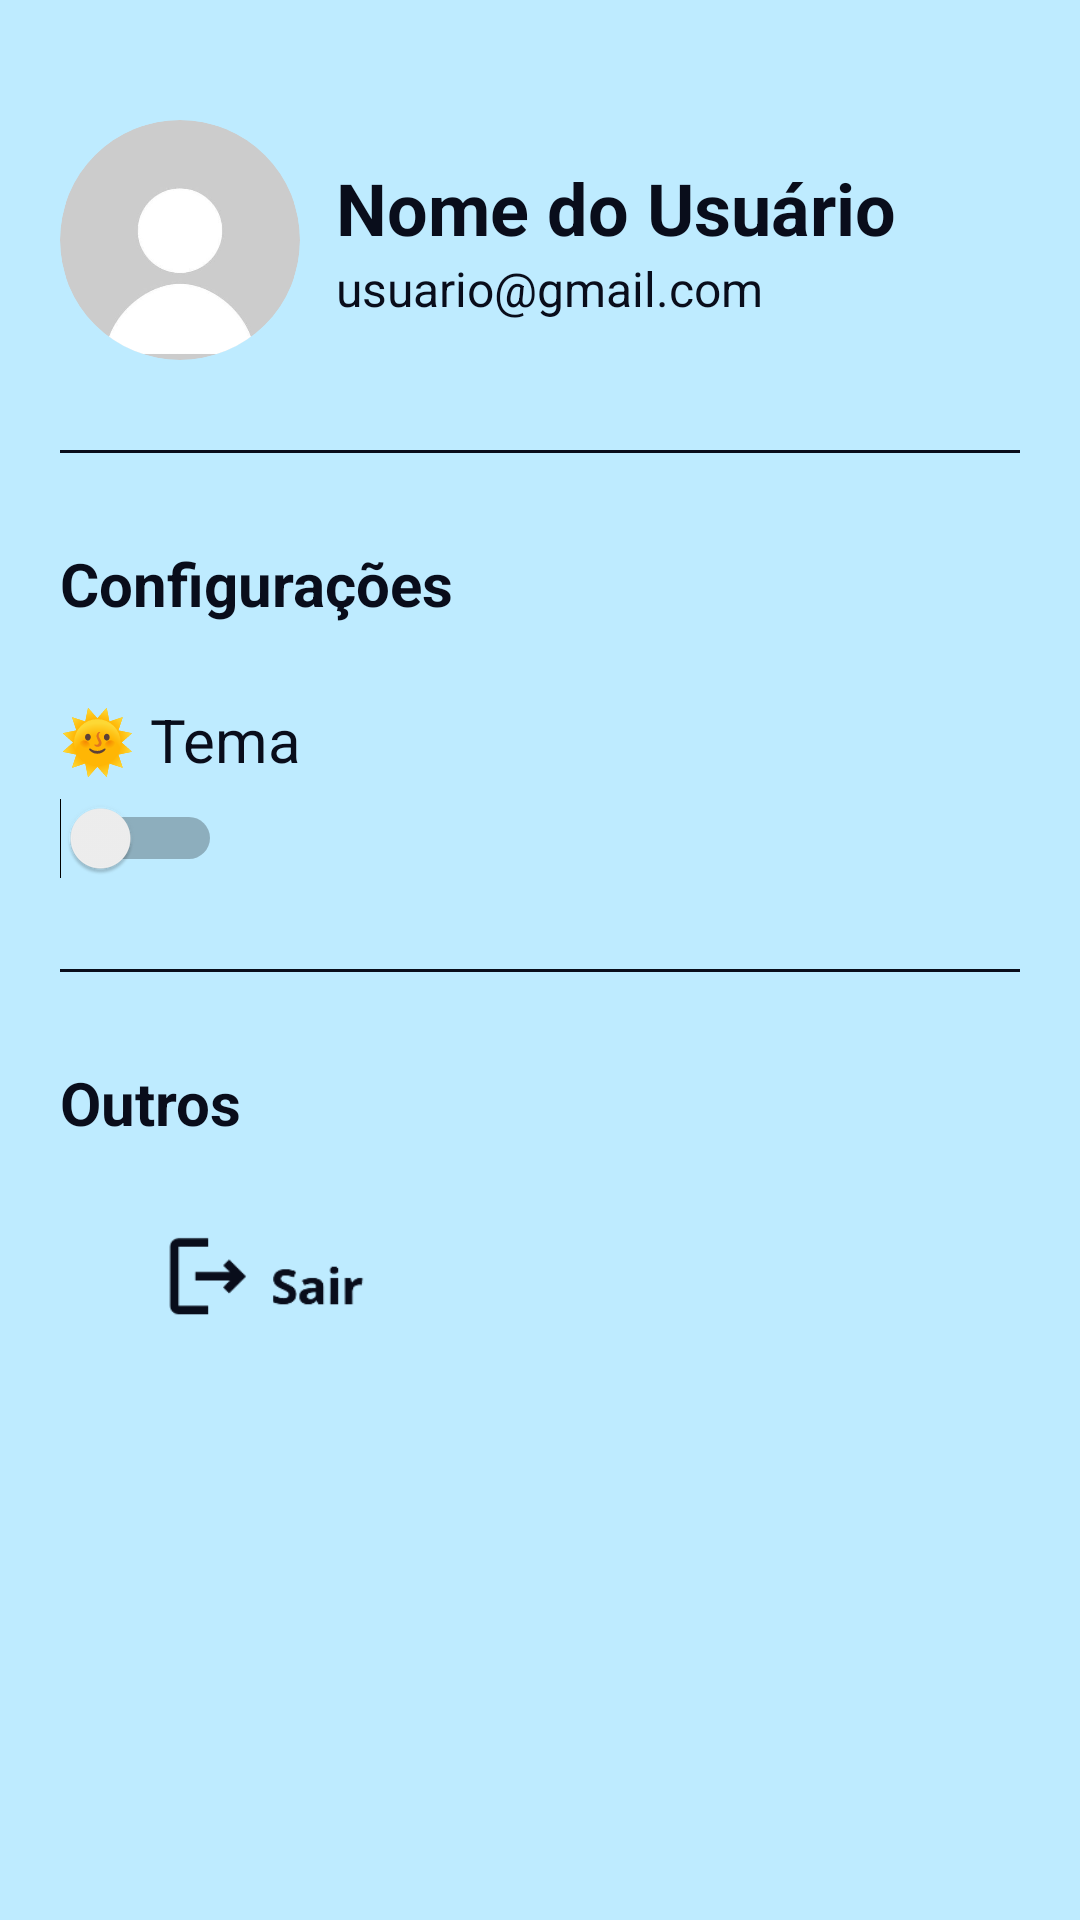

Screen size 1080px x 1920px. Icon name, then its center in pixels as [x,y]:
Foto de perfil: [180,240]
